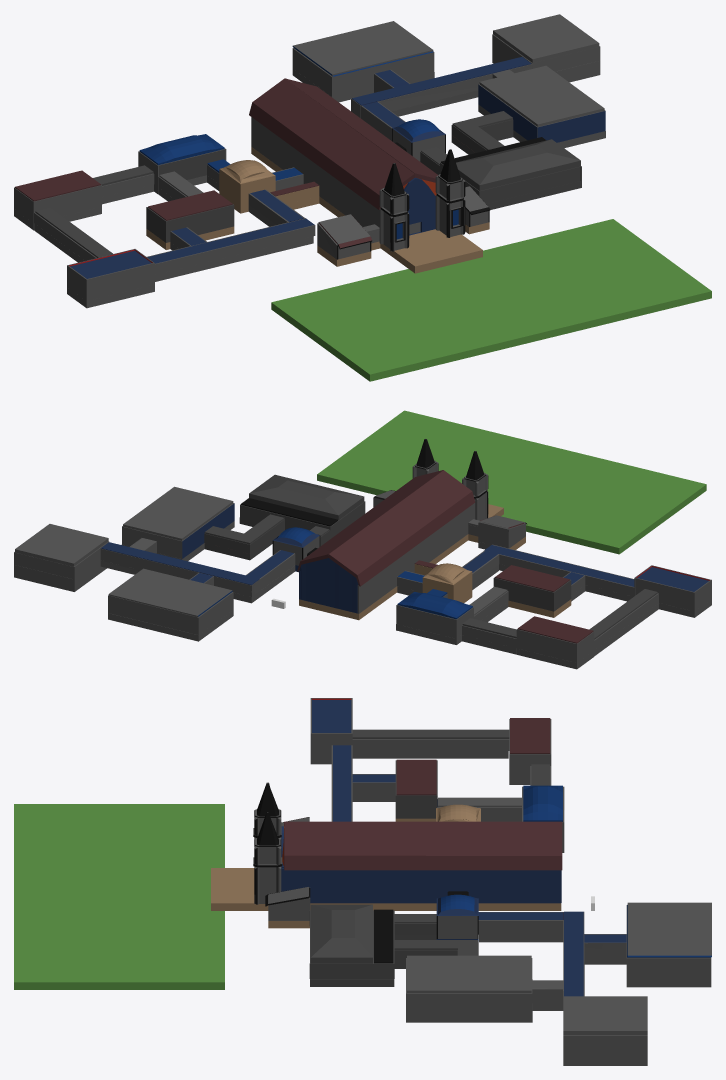
The model's file is IglesiaTextura.fbx.
The picture shows the model from 3 angles, top to bottom: view 1: azimuth 30°, elevation 25°; view 2: azimuth 150°, elevation 25°; view 3: azimuth 270°, elevation 25°; orthographic projection. The views are drawn at different scales.
Parts seen in each view (by area): view 1: Pasto, Cube, Cuartos, CocinaComedorAlmacen, EnfermeriaCeldas, PasilloEsteCocinaBañoCuartos, BañosLavadero, PasilloOesteB, SalaSacrificio, SalaReunionArchivo, CuatoSacerdote, SalaEstudio (+12 smaller); view 2: Pasto, Cube, Cuartos, CocinaComedorAlmacen, EnfermeriaCeldas, PasilloEsteCocinaBañoCuartos, BañosLavadero, CuatoSacerdote, SalaEstudio, SalaReunionArchivo, SalaSacrificio, PasilloOesteB (+11 smaller); view 3: Pasto, Cube, CocinaComedorAlmacen, Cuartos, EnfermeriaCeldas, PasilloEsteCocinaBañoCuartos, BañosLavadero, PasilloSacrificio, SalaReunionArchivo, SalaSacrificio, CuatoSacerdote, Torre entrada.002 (+10 smaller).
Part boxes in pixels (x1=…): Pasto: x1=271, y1=219, x2=711, y2=381; Cube: x1=249, y1=78, x2=482, y2=273; Cuartos: x1=292, y1=21, x2=434, y2=102; CocinaComedorAlmacen: x1=478, y1=65, x2=605, y2=148; EnfermeriaCeldas: x1=440, y1=137, x2=581, y2=209; PasilloEsteCocinaBañoCuartos: x1=351, y1=57, x2=532, y2=140; BañosLavadero: x1=492, y1=14, x2=600, y2=82; PasilloOesteB: x1=147, y1=218, x2=315, y2=281; SalaSacrificio: x1=67, y1=249, x2=154, y2=308; SalaReunionArchivo: x1=146, y1=190, x2=234, y2=249; CuatoSacerdote: x1=14, y1=170, x2=101, y2=230; SalaEstudio: x1=138, y1=134, x2=226, y2=193; Pasto: x1=317, y1=410, x2=706, y2=554; Cube: x1=297, y1=470, x2=503, y2=620; Cuartos: x1=108, y1=568, x2=233, y2=641; CocinaComedorAlmacen: x1=121, y1=486, x2=234, y2=561; EnfermeriaCeldas: x1=239, y1=474, x2=365, y2=538; PasilloEsteCocinaBañoCuartos: x1=100, y1=538, x2=295, y2=603; BañosLavadero: x1=14, y1=524, x2=109, y2=591; CuatoSacerdote: x1=516, y1=616, x2=594, y2=669; SalaEstudio: x1=396, y1=592, x2=473, y2=644; SalaReunionArchivo: x1=493, y1=565, x2=571, y2=617; SalaSacrificio: x1=634, y1=565, x2=711, y2=617; PasilloOesteB: x1=484, y1=544, x2=634, y2=601; Pasto: x1=14, y1=804, x2=224, y2=989; Cube: x1=211, y1=821, x2=562, y2=910; CocinaComedorAlmacen: x1=406, y1=955, x2=532, y2=1022; Cuartos: x1=626, y1=902, x2=711, y2=987; EnfermeriaCeldas: x1=309, y1=904, x2=394, y2=986; PasilloEsteCocinaBañoCuartos: x1=478, y1=911, x2=626, y2=1010; BañosLavadero: x1=563, y1=996, x2=647, y2=1065; PasilloSacrificio: x1=352, y1=729, x2=509, y2=758; SalaReunionArchivo: x1=395, y1=759, x2=437, y2=821; SalaSacrificio: x1=310, y1=698, x2=352, y2=764; CuatoSacerdote: x1=509, y1=718, x2=551, y2=784; Torre entrada.002: x1=253, y1=812, x2=282, y2=904.
Bounding box in the file's own units: 18474 × 2704 × 16532.
